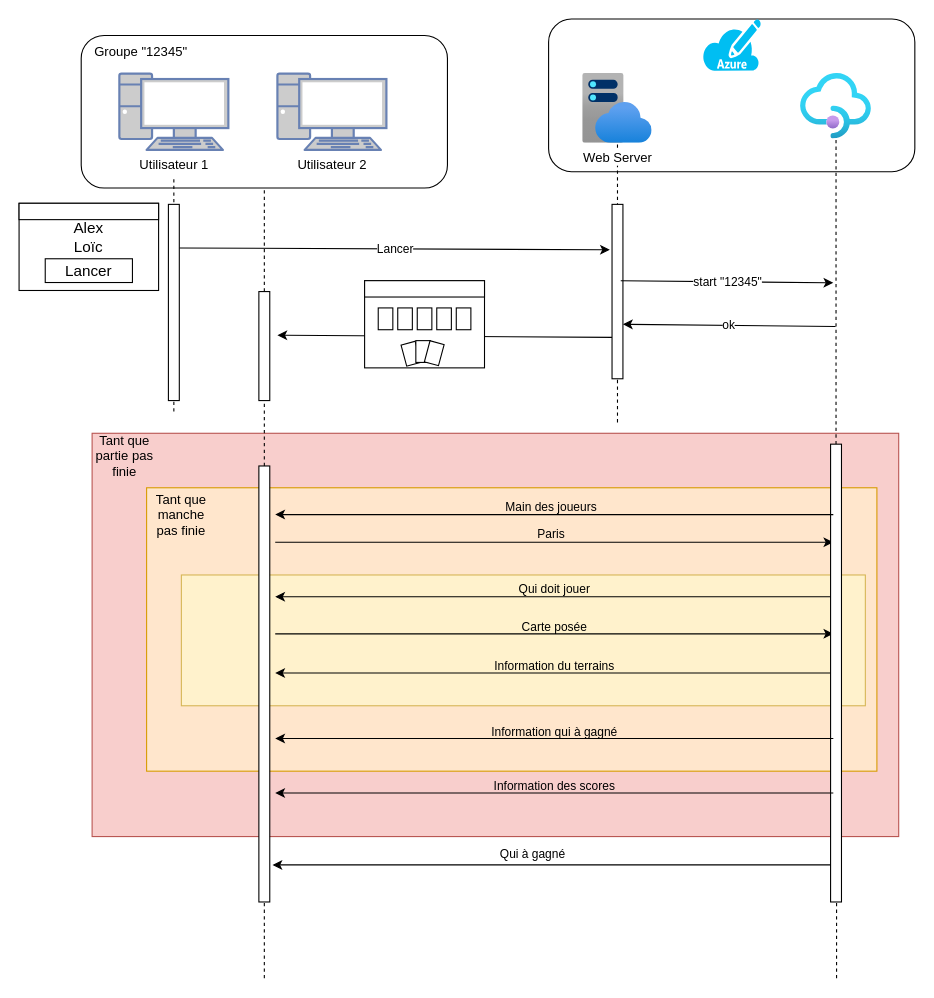
The diagram is 934 pixels wide and 998 high, and some of its shapes have lost their labels. The shapes that lost their labels are listed below. From the top down, each one's centre as x and y in pixels, then its label:
point 835,105: API
point 522,640: Tant que pli pas fini
